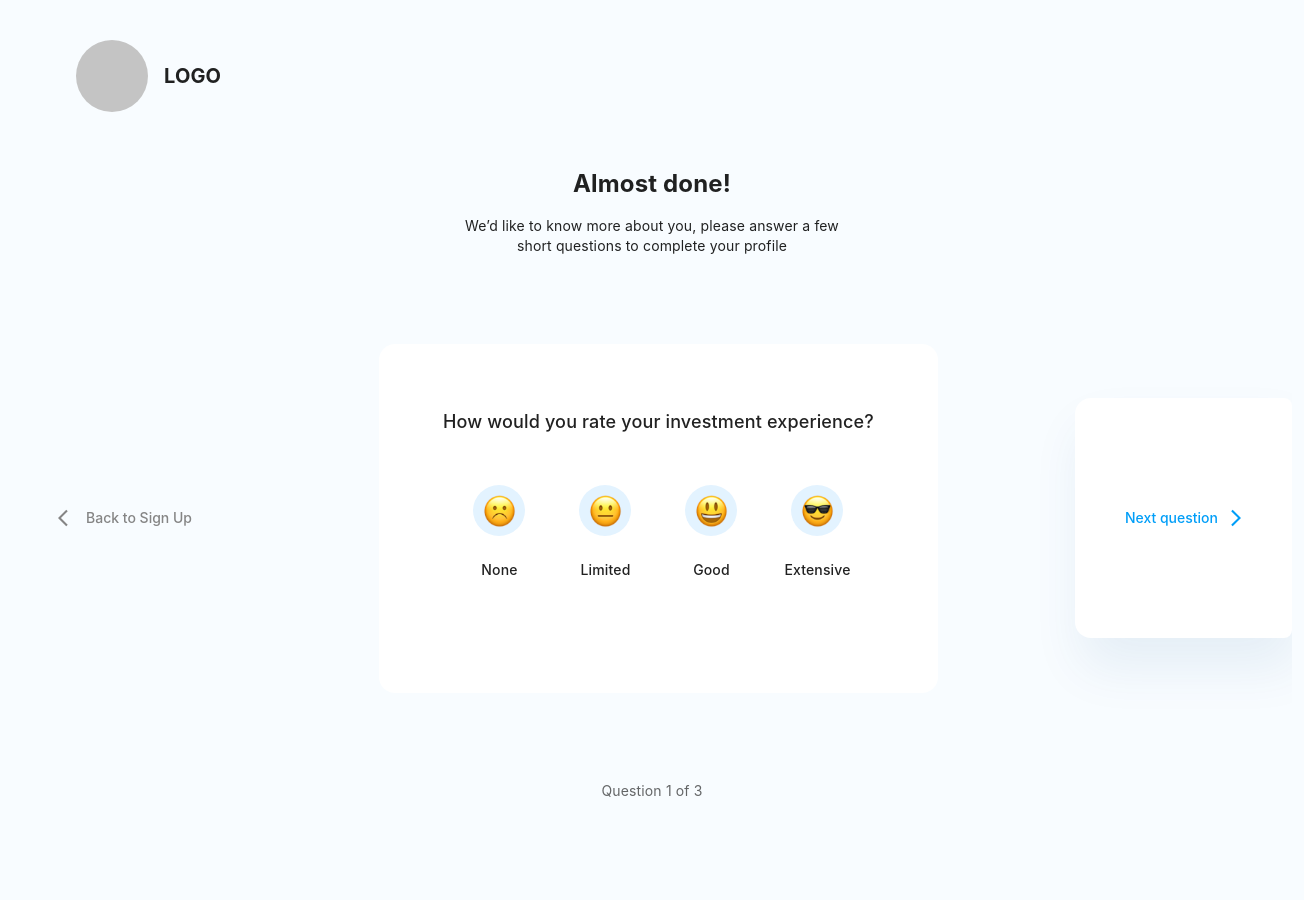
it: investor/VerificationSelect › Should go to next question when clicking next question
Click the button "Next question" at (1183, 518), box [1075, 398, 1292, 638]
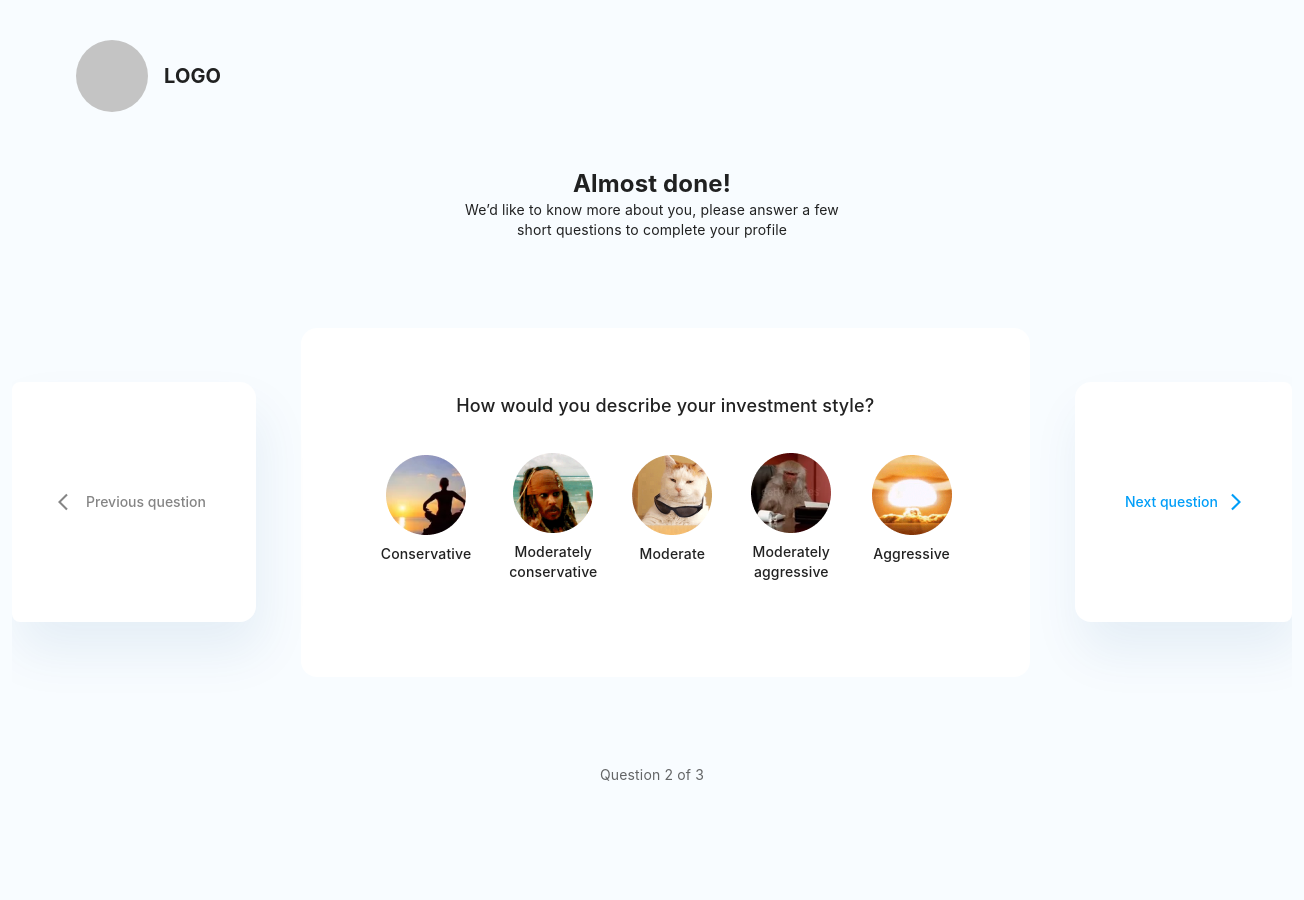
Expected: the heading "How would you describe your investment style?" is shown, [456, 395, 874, 416]
